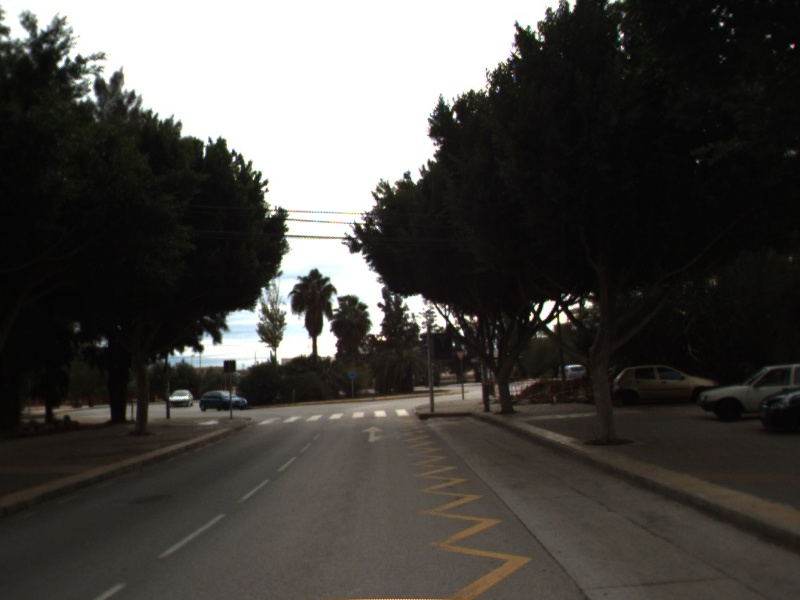STRAIGHT_RIGHT: (359, 424, 406, 444)
